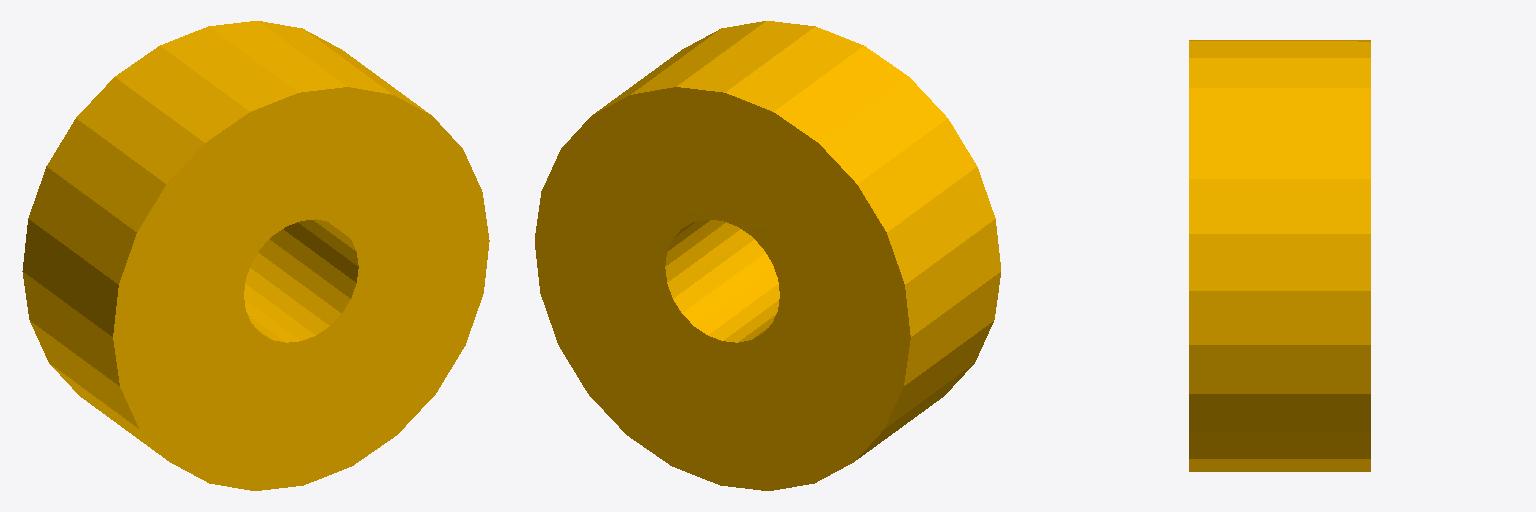
File: carro_circulo2.obj
The picture shows the model from 3 angles: view 1: azimuth 30°, elevation 25°; view 2: azimuth 150°, elevation 25°; view 3: azimuth 270°, elevation 25°; orthographic projection.
Parts seen in each view (by area): view 1: circulo2_Mesh27_Group27_Model; view 2: circulo2_Mesh27_Group27_Model; view 3: circulo2_Mesh27_Group27_Model.
Part boxes in pixels (x1,y1,x2,y2): circulo2_Mesh27_Group27_Model: (22, 21, 489, 490); circulo2_Mesh27_Group27_Model: (535, 21, 1000, 490); circulo2_Mesh27_Group27_Model: (1189, 40, 1370, 471).
Size of the model in its own units: 23.99 by 23.98 by 10.01.